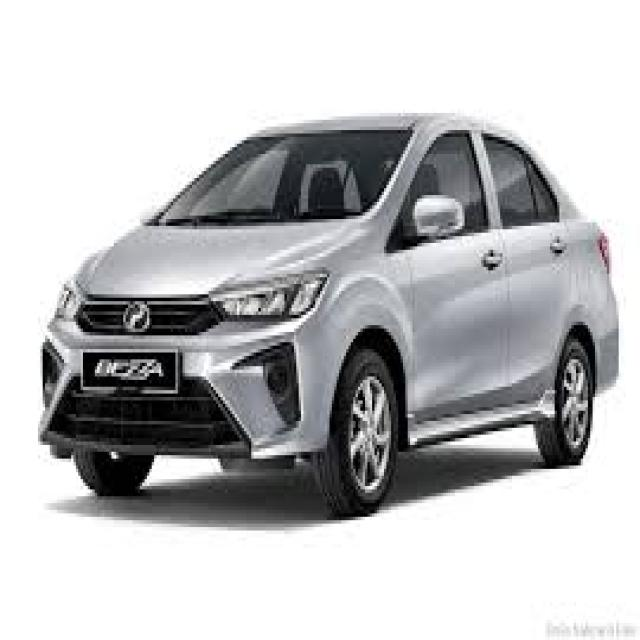PeroduaBezza: (36, 106, 618, 517)
